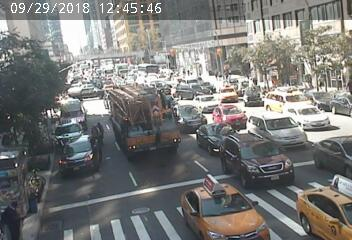car: (114, 91, 169, 139), (190, 182, 252, 224), (226, 134, 276, 180), (306, 186, 352, 227), (258, 110, 294, 141), (67, 138, 101, 170), (321, 140, 349, 168), (202, 120, 228, 142), (273, 85, 300, 103), (179, 109, 202, 129), (302, 106, 320, 127), (54, 124, 79, 139), (65, 105, 88, 121), (139, 61, 160, 77), (333, 94, 348, 112), (220, 90, 238, 103), (184, 80, 205, 91), (75, 85, 96, 95), (224, 109, 241, 120), (198, 97, 215, 108), (159, 80, 172, 86), (118, 62, 127, 70), (104, 69, 113, 74)
